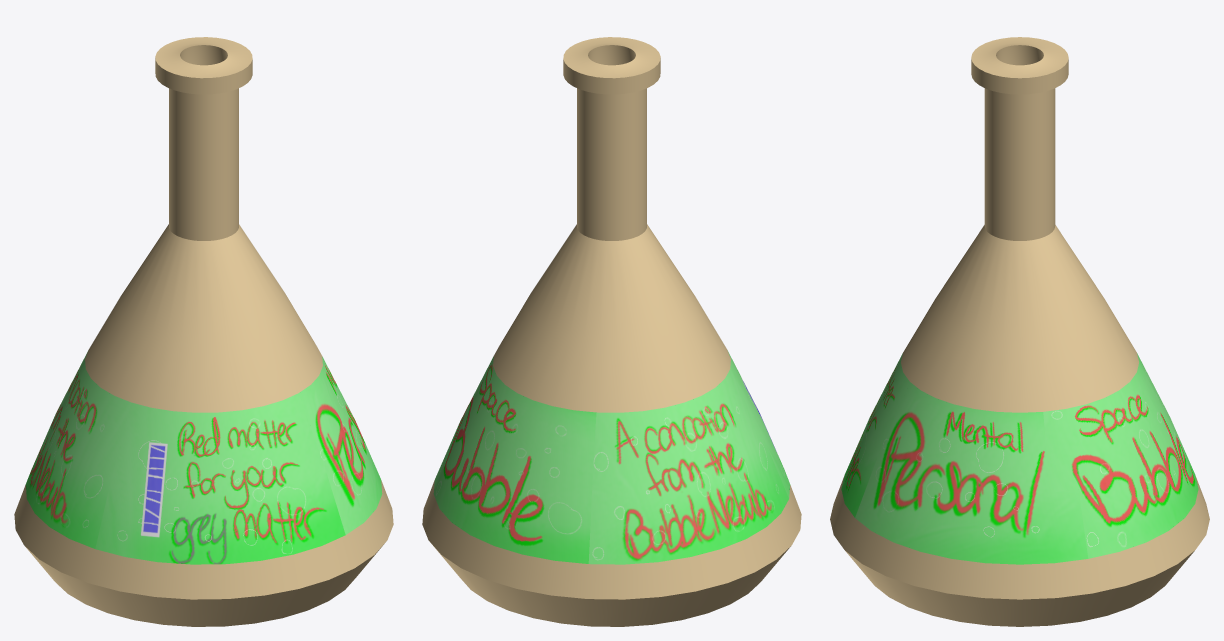
Rendered from TallPotion.fbx.
3 renders of one model, left to right at view 1: azimuth 30°, elevation 25°; view 2: azimuth 150°, elevation 25°; view 3: azimuth 270°, elevation 25°, orthographic.
Visible parts, largest first — view 1: TallJar, TallJarLabel; view 2: TallJar, TallJarLabel; view 3: TallJar, TallJarLabel.
Boxes of the visible parts, box(x1,y1,x2,y2) form: TallJar: box(14, 37, 393, 626); TallJarLabel: box(25, 350, 382, 564); TallJar: box(422, 37, 801, 626); TallJarLabel: box(433, 350, 790, 564); TallJar: box(830, 37, 1209, 626); TallJarLabel: box(841, 353, 1198, 564).
Bounding box in the file's own units: 0.532 × 0.532 × 0.8269.
